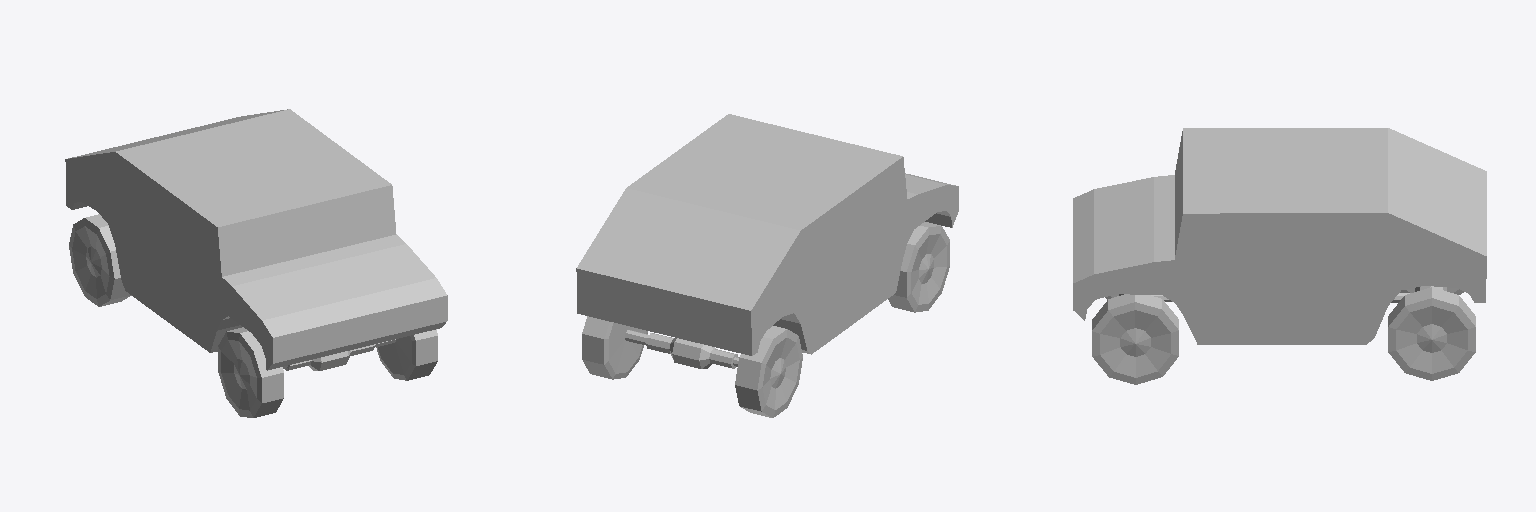
Rendered from HUMMWV.obj.
3 views of the same model, side by side, from view 1: azimuth 30°, elevation 25°; view 2: azimuth 150°, elevation 25°; view 3: azimuth 270°, elevation 25° (orthographic).
Parts seen in each view (by area): view 1: mesh06, mesh04, mesh07, mesh05, mesh09; view 2: mesh06, mesh07, mesh04, mesh08, mesh10; view 3: mesh06, mesh08, mesh05.
Boxes of the visible parts, box(x1,y1,x2,y2) form: mesh06: box(65, 109, 447, 370); mesh04: box(218, 327, 283, 417); mesh07: box(69, 214, 131, 306); mesh05: box(376, 329, 437, 380); mesh09: box(283, 339, 395, 370); mesh06: box(576, 114, 958, 355); mesh07: box(735, 326, 802, 417); mesh04: box(888, 222, 949, 312); mesh08: box(582, 316, 647, 379); mesh10: box(625, 330, 738, 368); mesh06: box(1073, 128, 1486, 344); mesh08: box(1388, 287, 1475, 380); mesh05: box(1092, 294, 1178, 384).
Bounding box in the file's own units: 45.62 × 42.09 × 91.92.